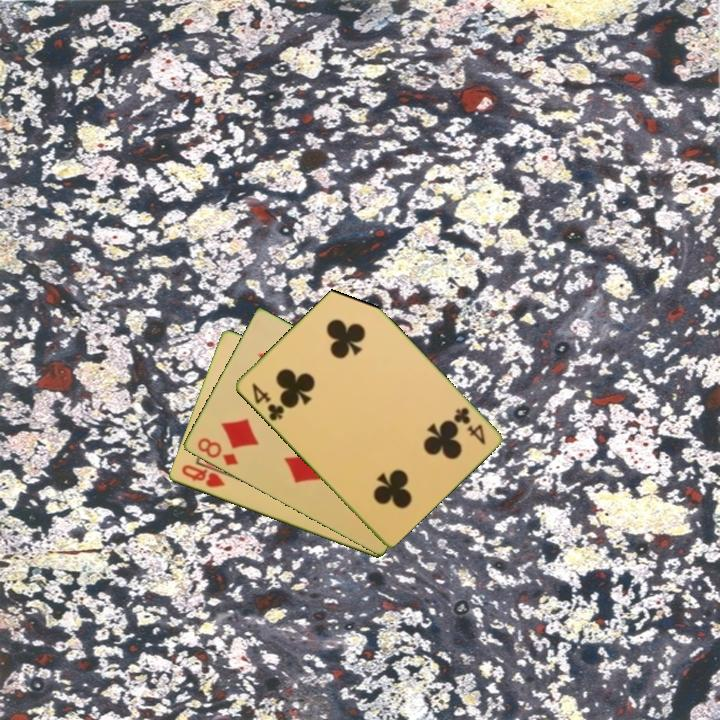4c: (248, 379, 287, 424), (449, 404, 488, 448)
8d: (193, 434, 241, 469)
Qh: (178, 461, 228, 491)
